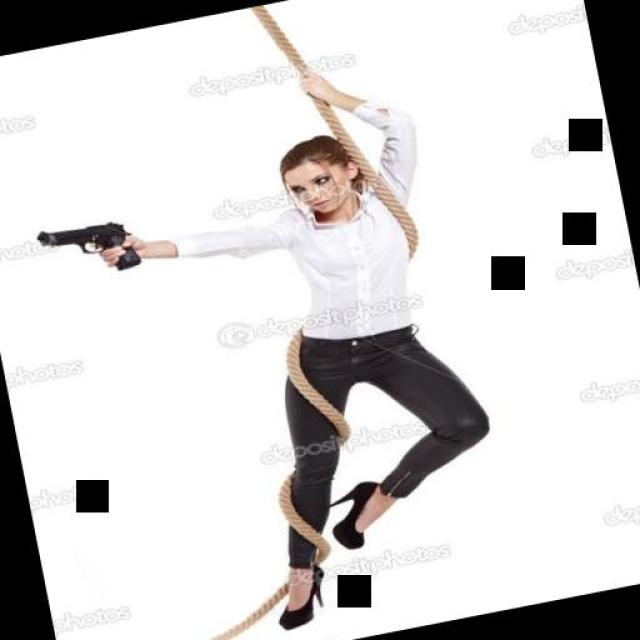gun: (34, 208, 148, 288)
